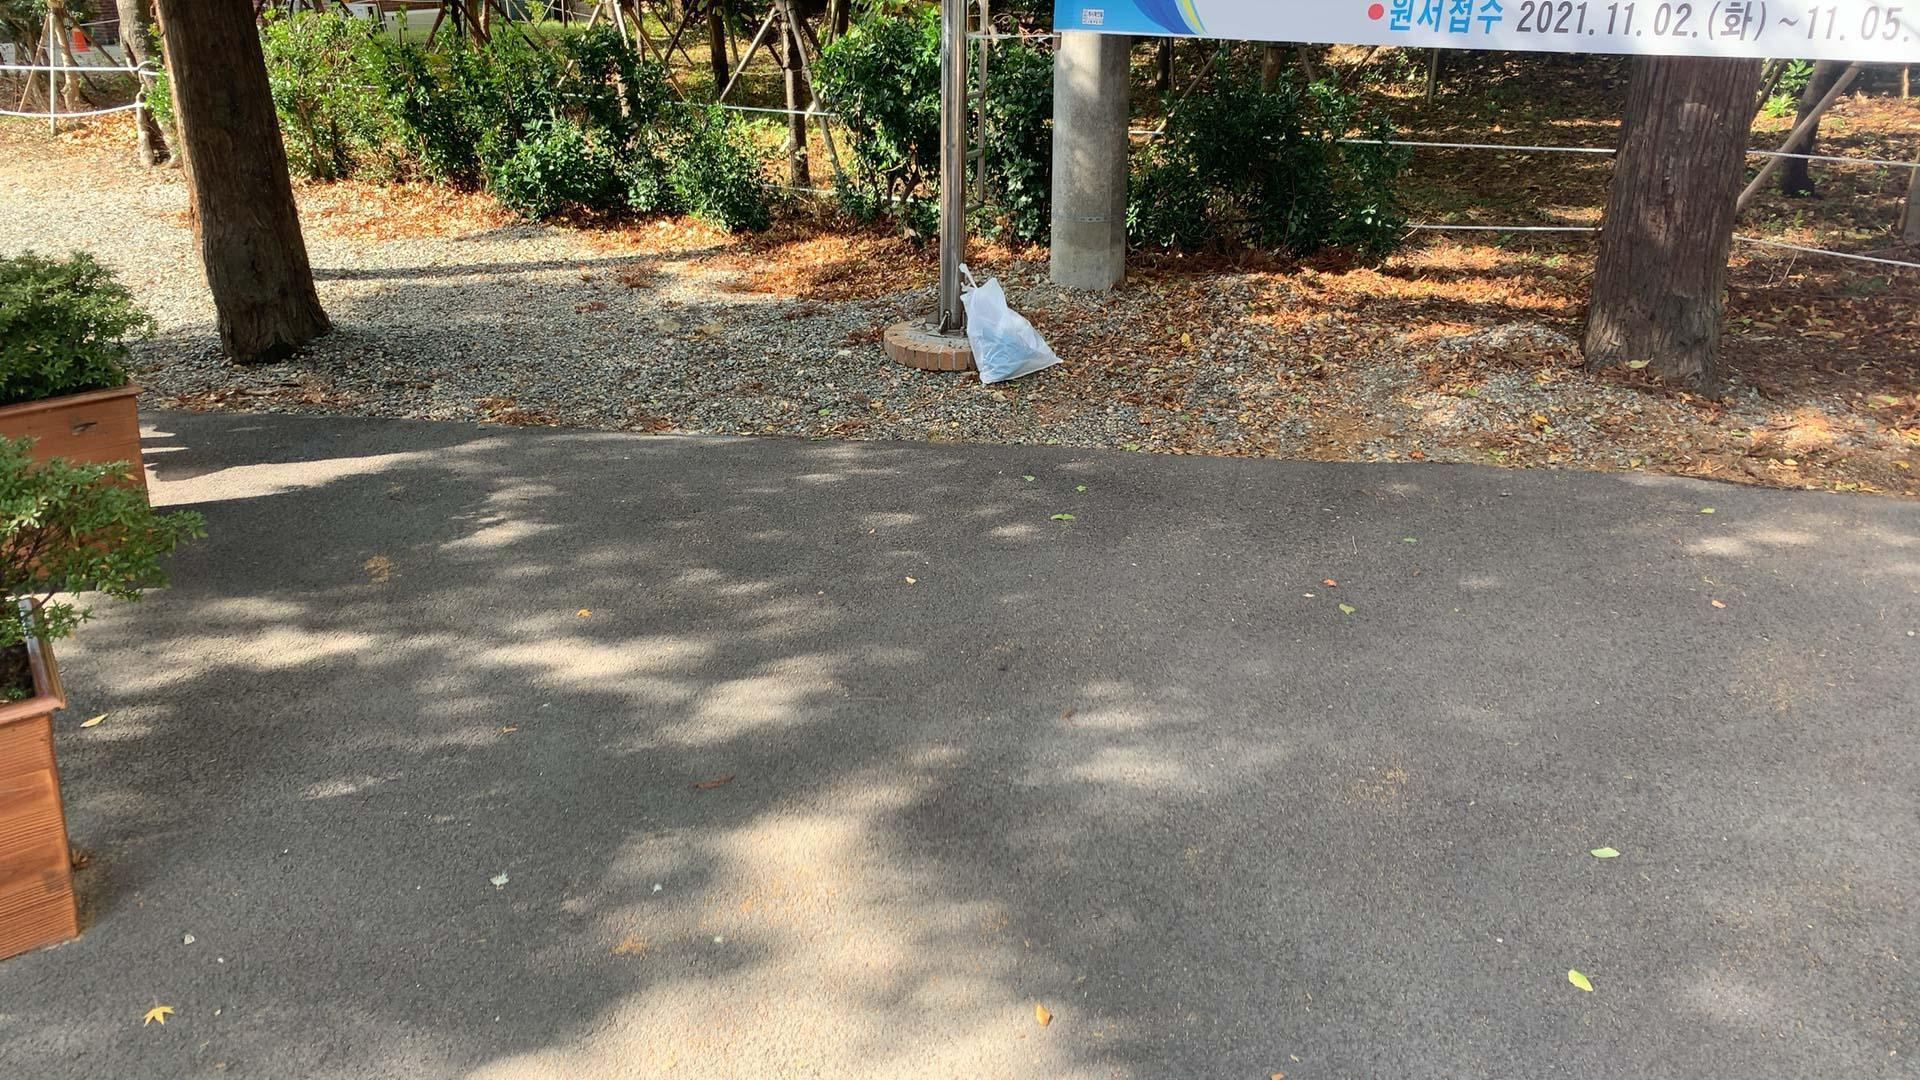white_bag: (949, 256, 1072, 394)
